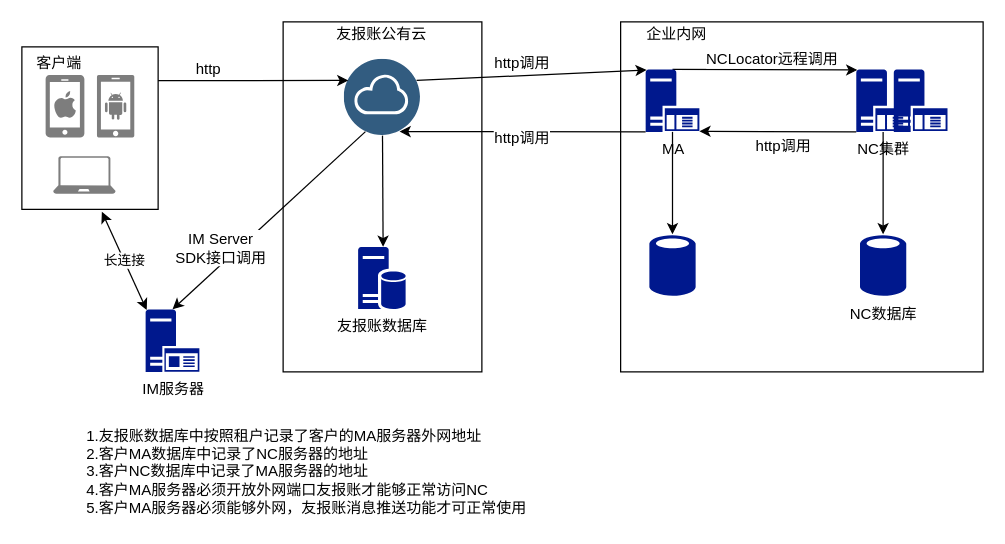
This 1005x544 diagram has some shape labels left out. Here are the shapes that lost their labels. From the top down, the centre of each, then its label:
At point (382, 97): "友报账服务器".
At point (672, 265): "MA数据库".
